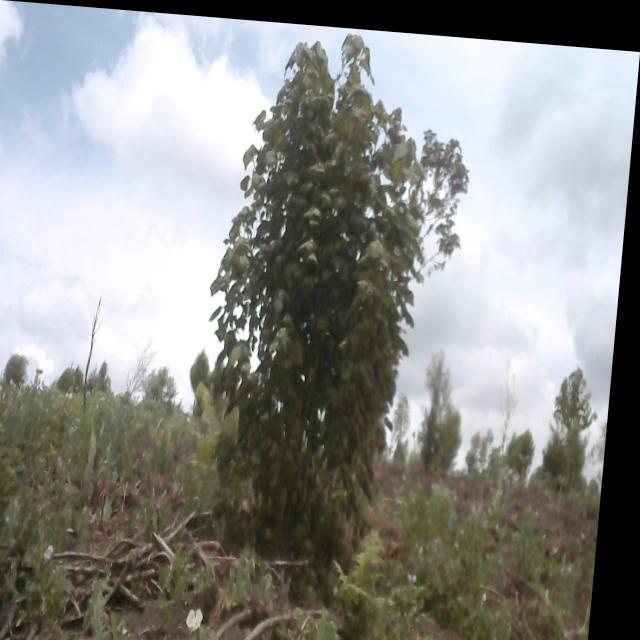other: (196, 18, 479, 615)
